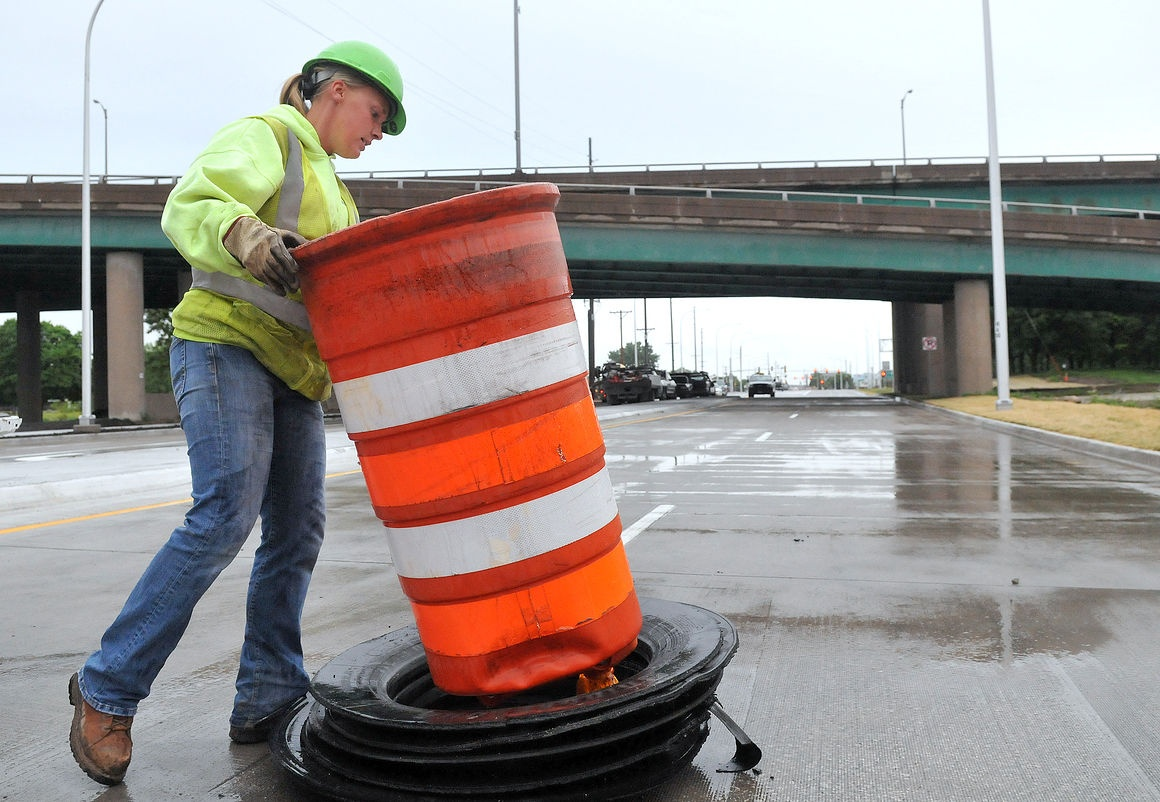yellow: (300, 39, 410, 156)
